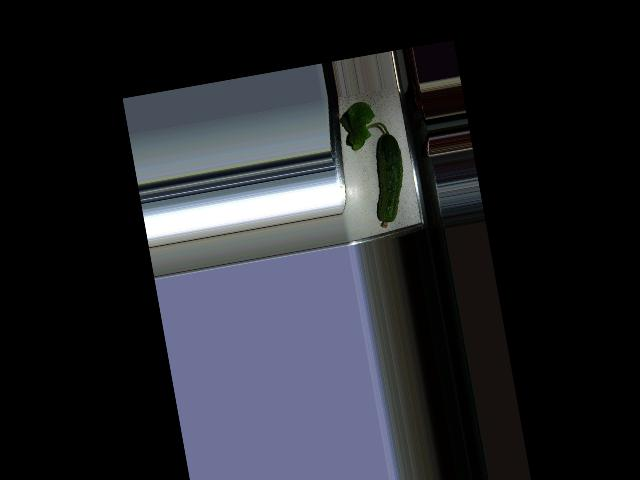cucumber: (363, 131, 413, 228)
